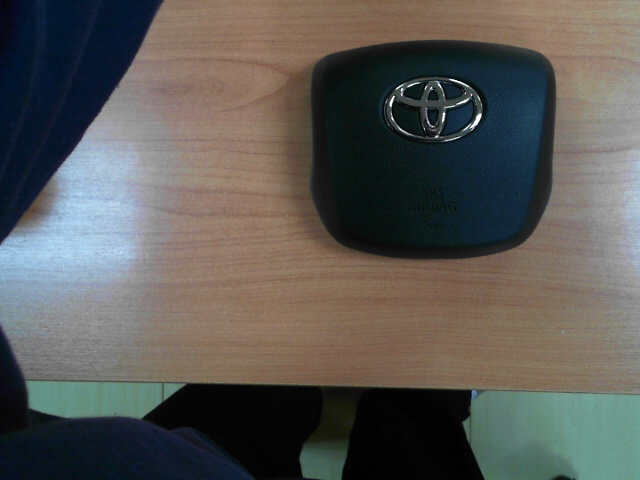AirbagV2: (308, 41, 548, 256)
